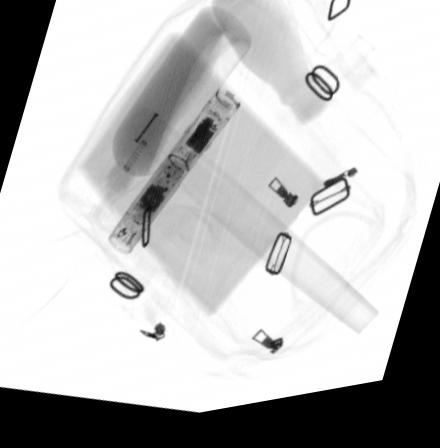Baton: (107, 94, 241, 259)
